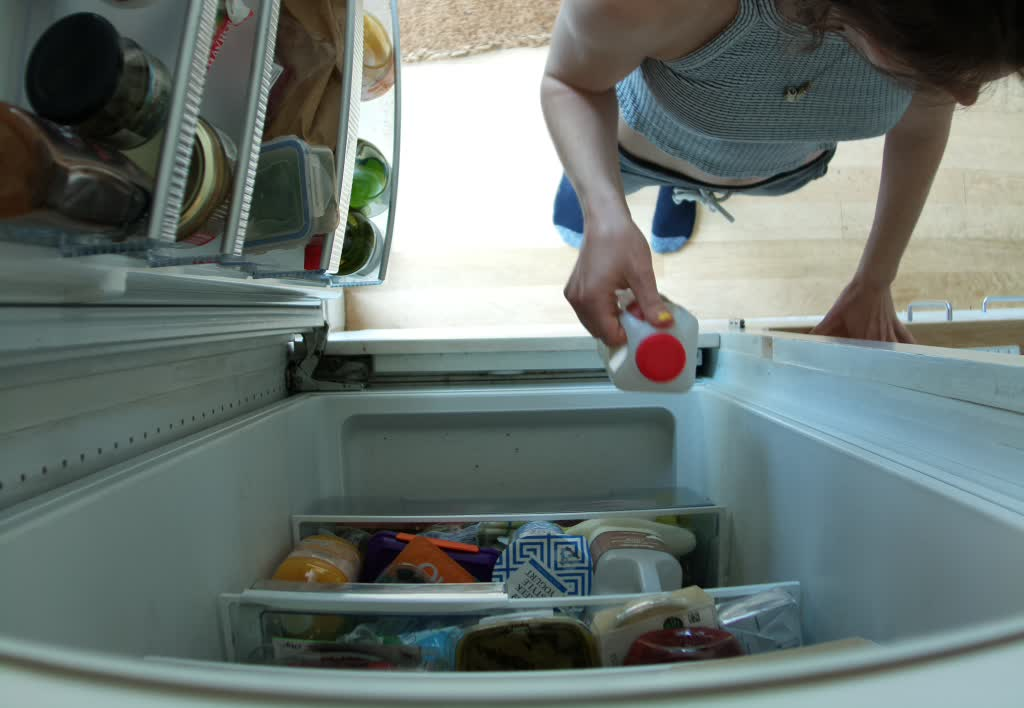milk: (603, 289, 701, 410)
